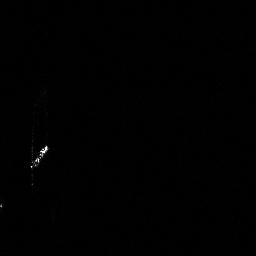ship: (25, 142, 53, 171)
